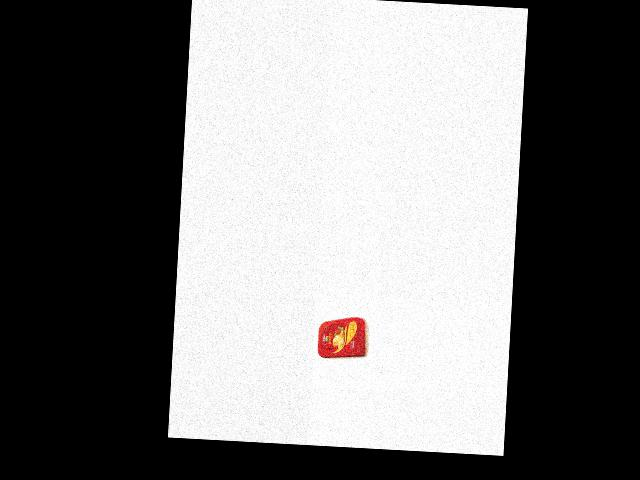cheese: (314, 315, 369, 361)
